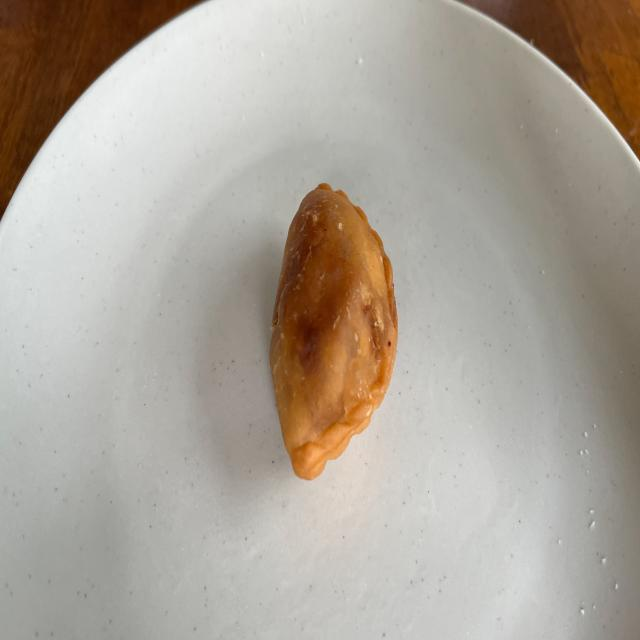karipap: (270, 182, 398, 480)
